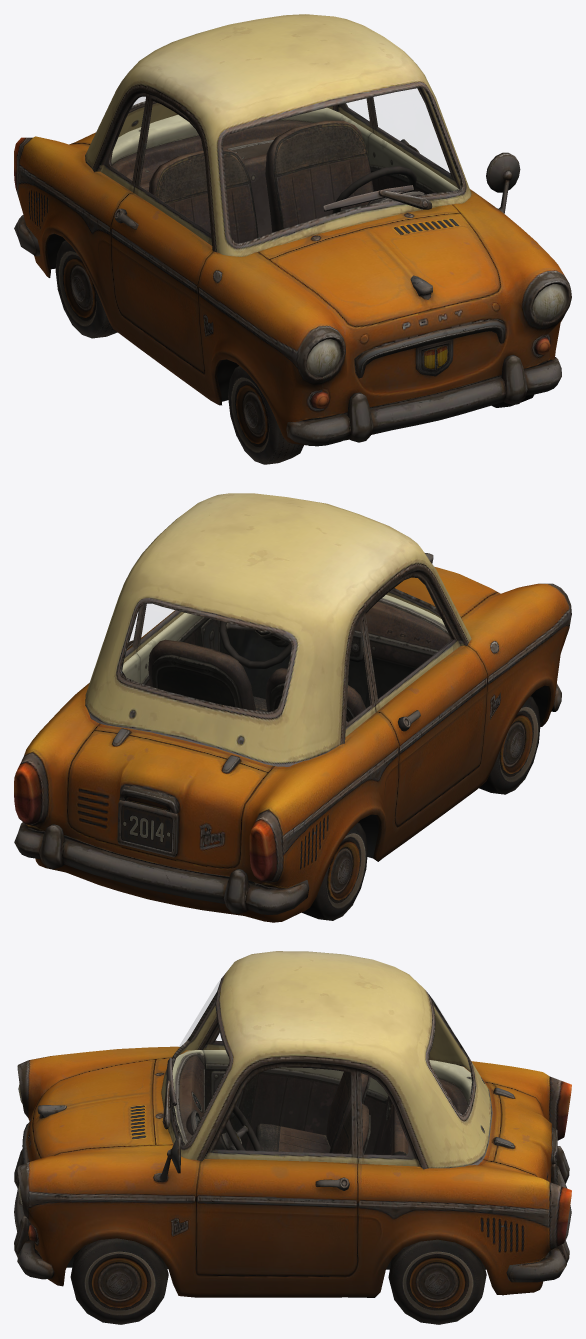
File: SPOILER_ponyCarTestExport1.fbx
3 renders of one model, top to bottom at view 1: azimuth 30°, elevation 25°; view 2: azimuth 150°, elevation 25°; view 3: azimuth 270°, elevation 25°, orthographic. The views are drawn at different scales.
Visible parts, largest first — view 1: Body, wheelFront_Rgroup, wheelBack_Rgroup, steeingwheel, windsheild2; view 2: Body, wheelBack_Rgroup, wheelFront_Rgroup, steeingwheel; view 3: Body, wheelFront_Lgroup, wheelBack_Lgroup, steeingwheel.
Part boxes in pixels (x1,y1,x2,y2): Body: (14, 14, 571, 446); wheelFront_Rgroup: (228, 366, 303, 464); wheelBack_Rgroup: (55, 240, 117, 338); steeingwheel: (332, 166, 416, 213); windsheild2: (323, 185, 413, 211); Body: (14, 493, 571, 922); wheelBack_Rgroup: (302, 822, 367, 920); wheelFront_Rgroup: (479, 696, 540, 794); steeingwheel: (219, 621, 291, 668); Body: (14, 951, 571, 1297); wheelFront_Lgroup: (70, 1238, 168, 1324); wheelBack_Lgroup: (388, 1239, 486, 1324); steeingwheel: (214, 1105, 262, 1150).
Bounding box in the file's own units: 403 × 375 × 665.
3 materials, 3 textured.
